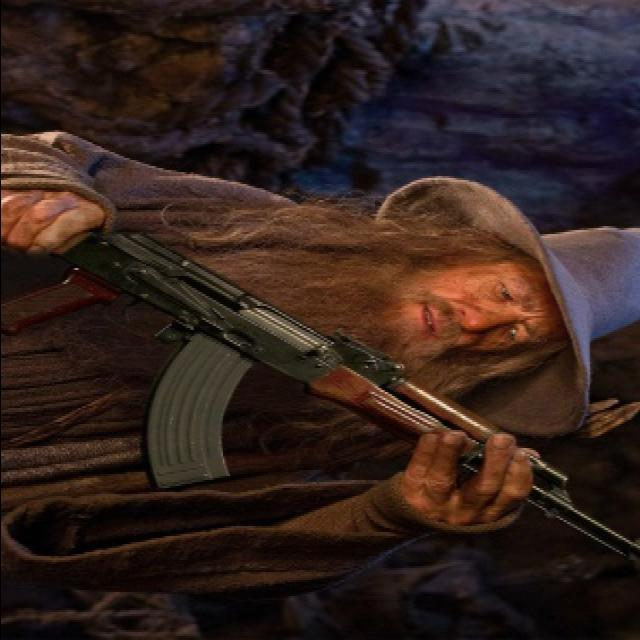rifle: (31, 167, 640, 583)
